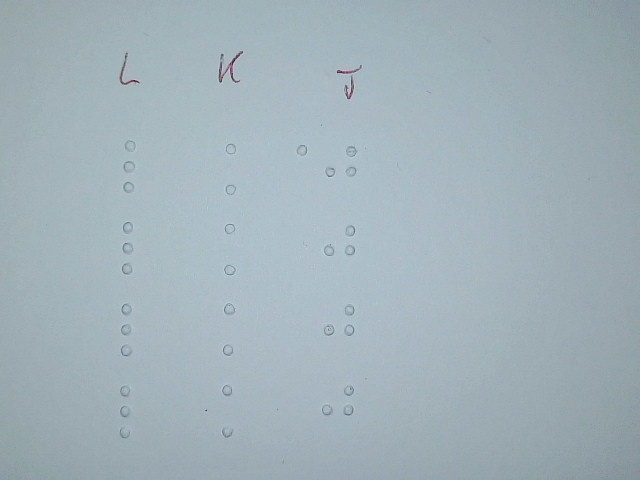J: (323, 137, 358, 195), (322, 216, 357, 274), (322, 295, 357, 353), (320, 376, 355, 434)
K: (214, 139, 260, 201), (213, 217, 259, 279), (214, 298, 260, 360), (213, 379, 259, 441)
L: (114, 135, 160, 197), (113, 215, 159, 277), (112, 298, 158, 360), (110, 380, 156, 442)
